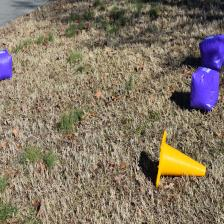cone: (156, 130, 206, 187)
cube: (190, 66, 220, 112), (199, 34, 224, 72), (0, 49, 13, 81)
